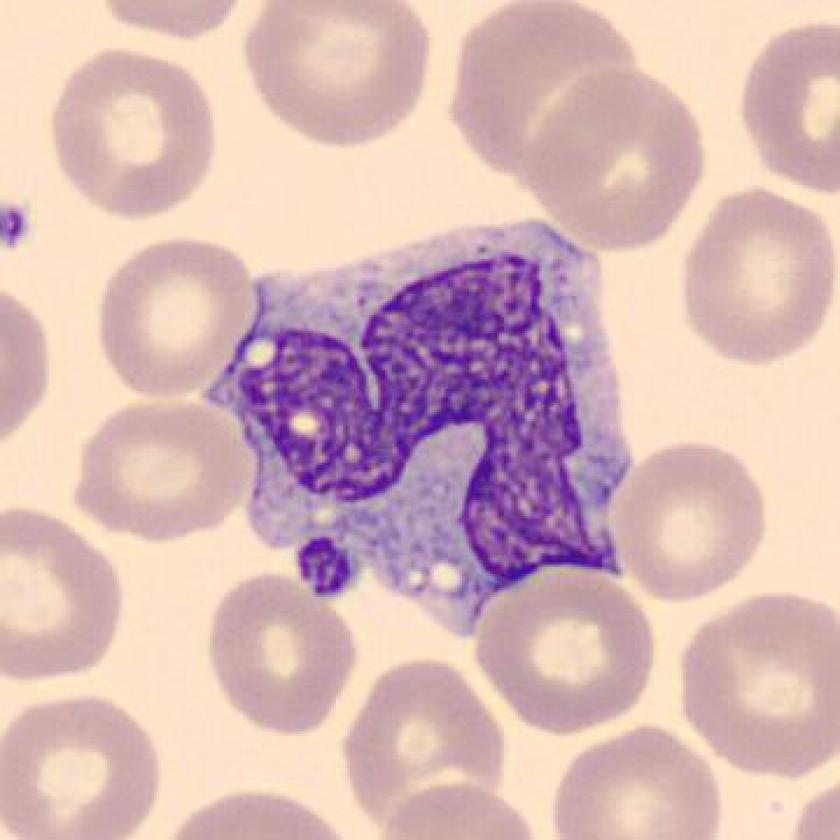monocyte: (186, 200, 655, 654)
